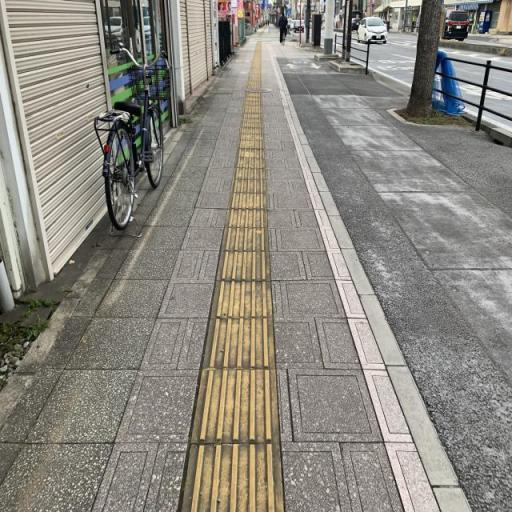line: (182, 444, 285, 511), (191, 369, 279, 443), (201, 319, 276, 369), (212, 280, 272, 321), (216, 249, 271, 281)
